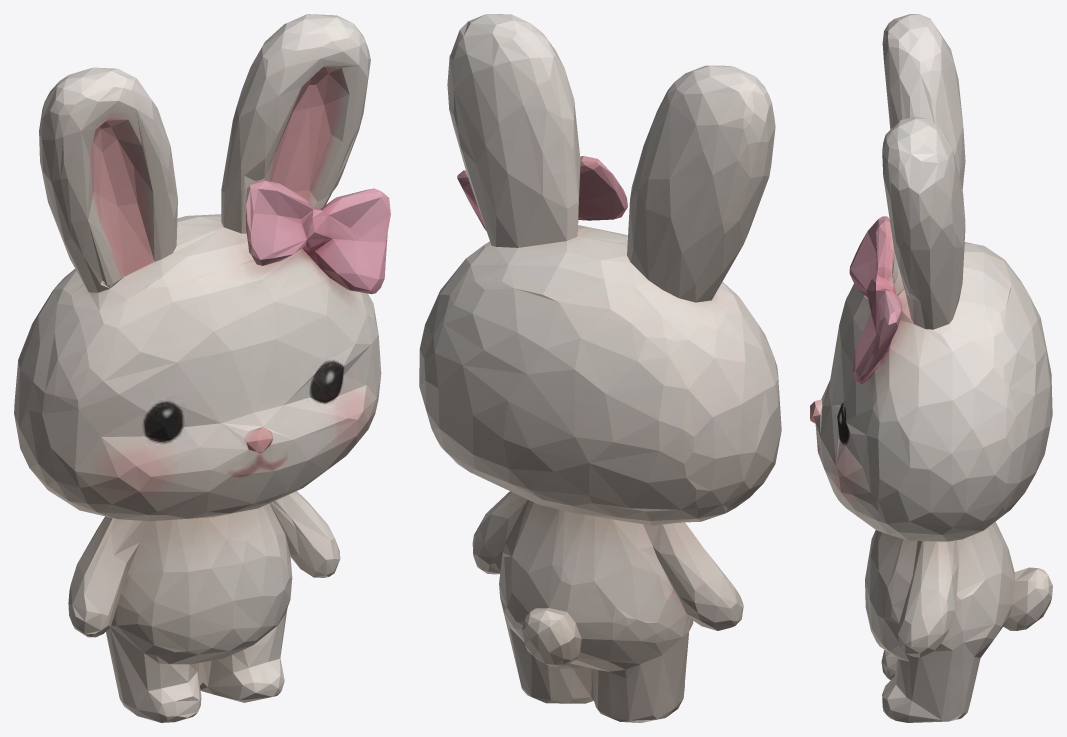
The model's file is momo.glb.
3 views of the same model, side by side, from view 1: azimuth 30°, elevation 25°; view 2: azimuth 150°, elevation 25°; view 3: azimuth 270°, elevation 25° (orthographic). The views are drawn at different scales.
Parts seen in each view (by area): view 1: geometry_0; view 2: geometry_0; view 3: geometry_0.
Boxes of the visible parts, x1,y1,x2,y2 form: geometry_0: [14, 14, 390, 722]; geometry_0: [419, 14, 781, 722]; geometry_0: [810, 14, 1052, 722].
Bounding box in the file's own units: 0.5419 × 0.999 × 0.3559.
1 material, 1 textured.
